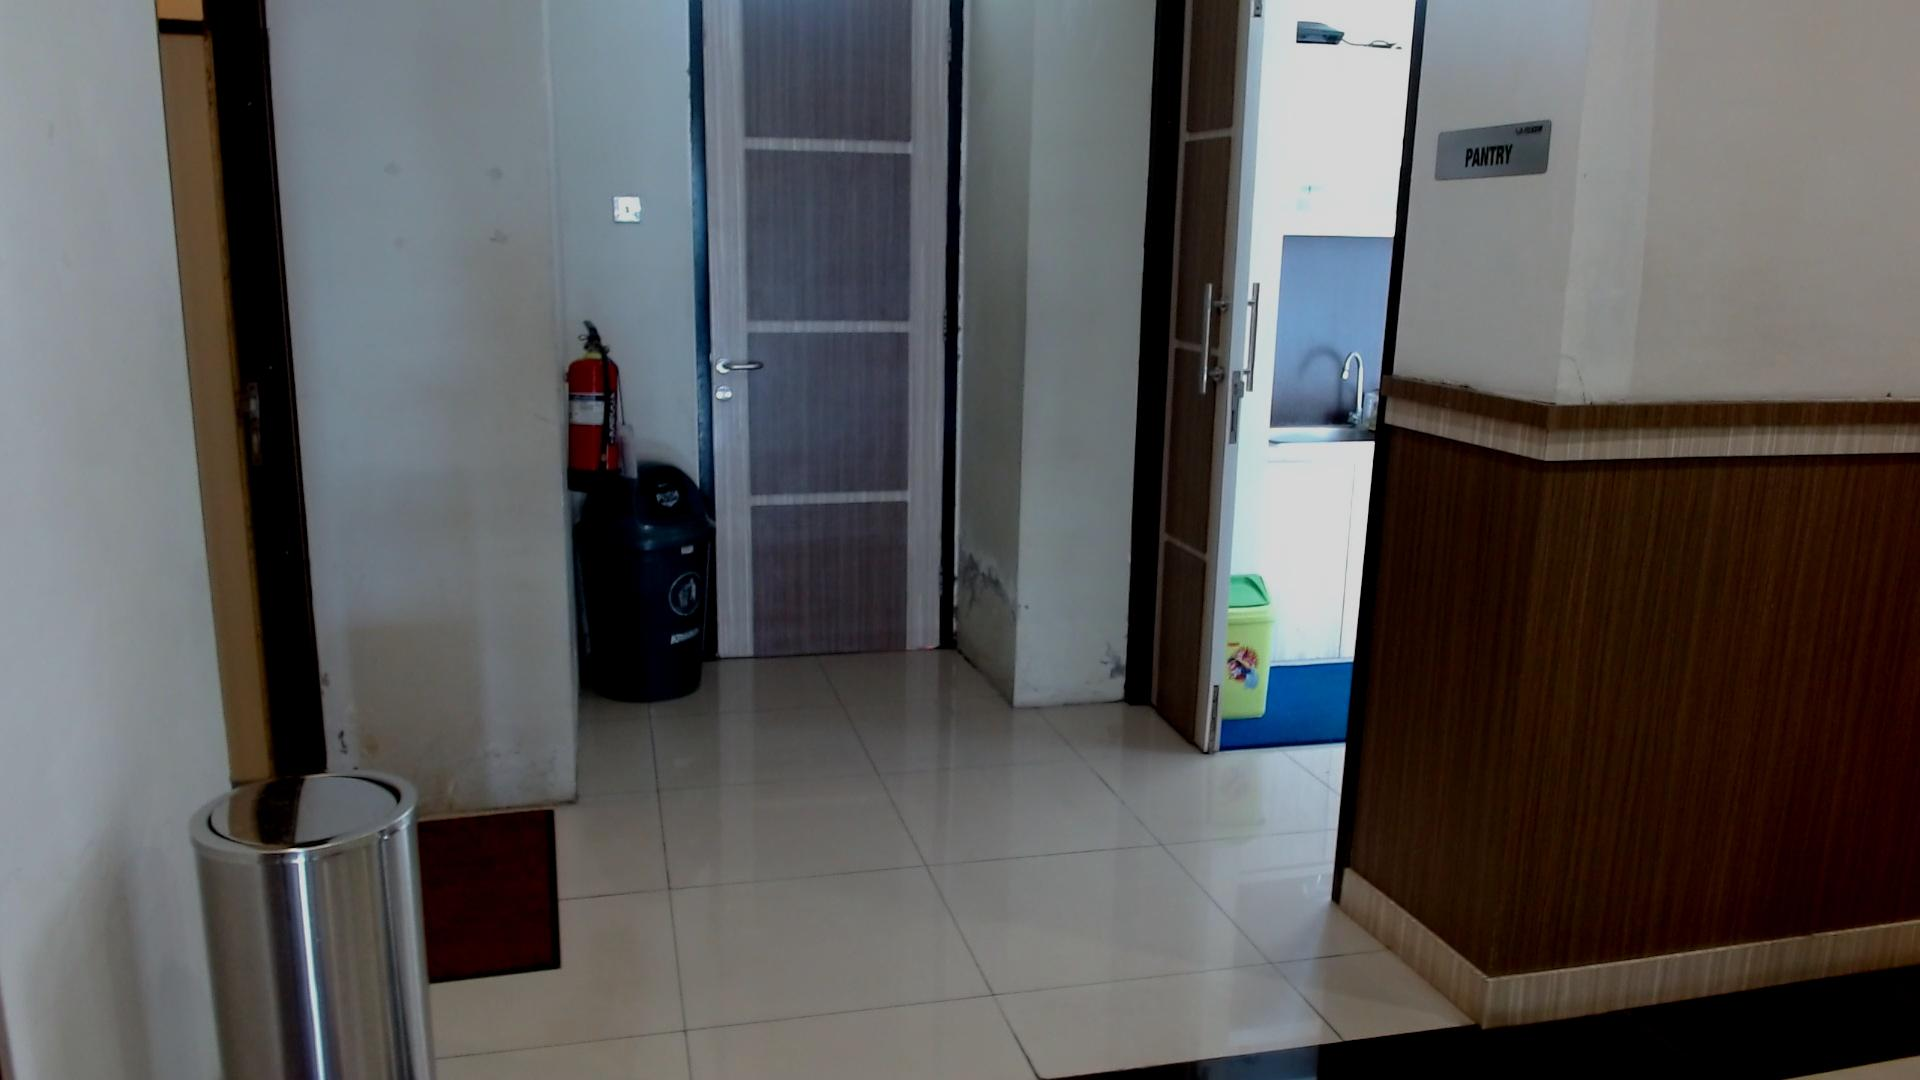plate: (1435, 120, 1551, 182)
